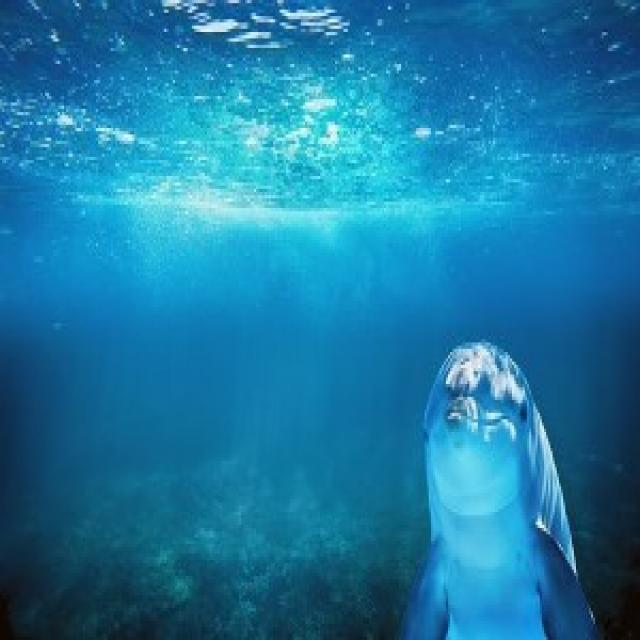Dolphin: (394, 325, 612, 640)
